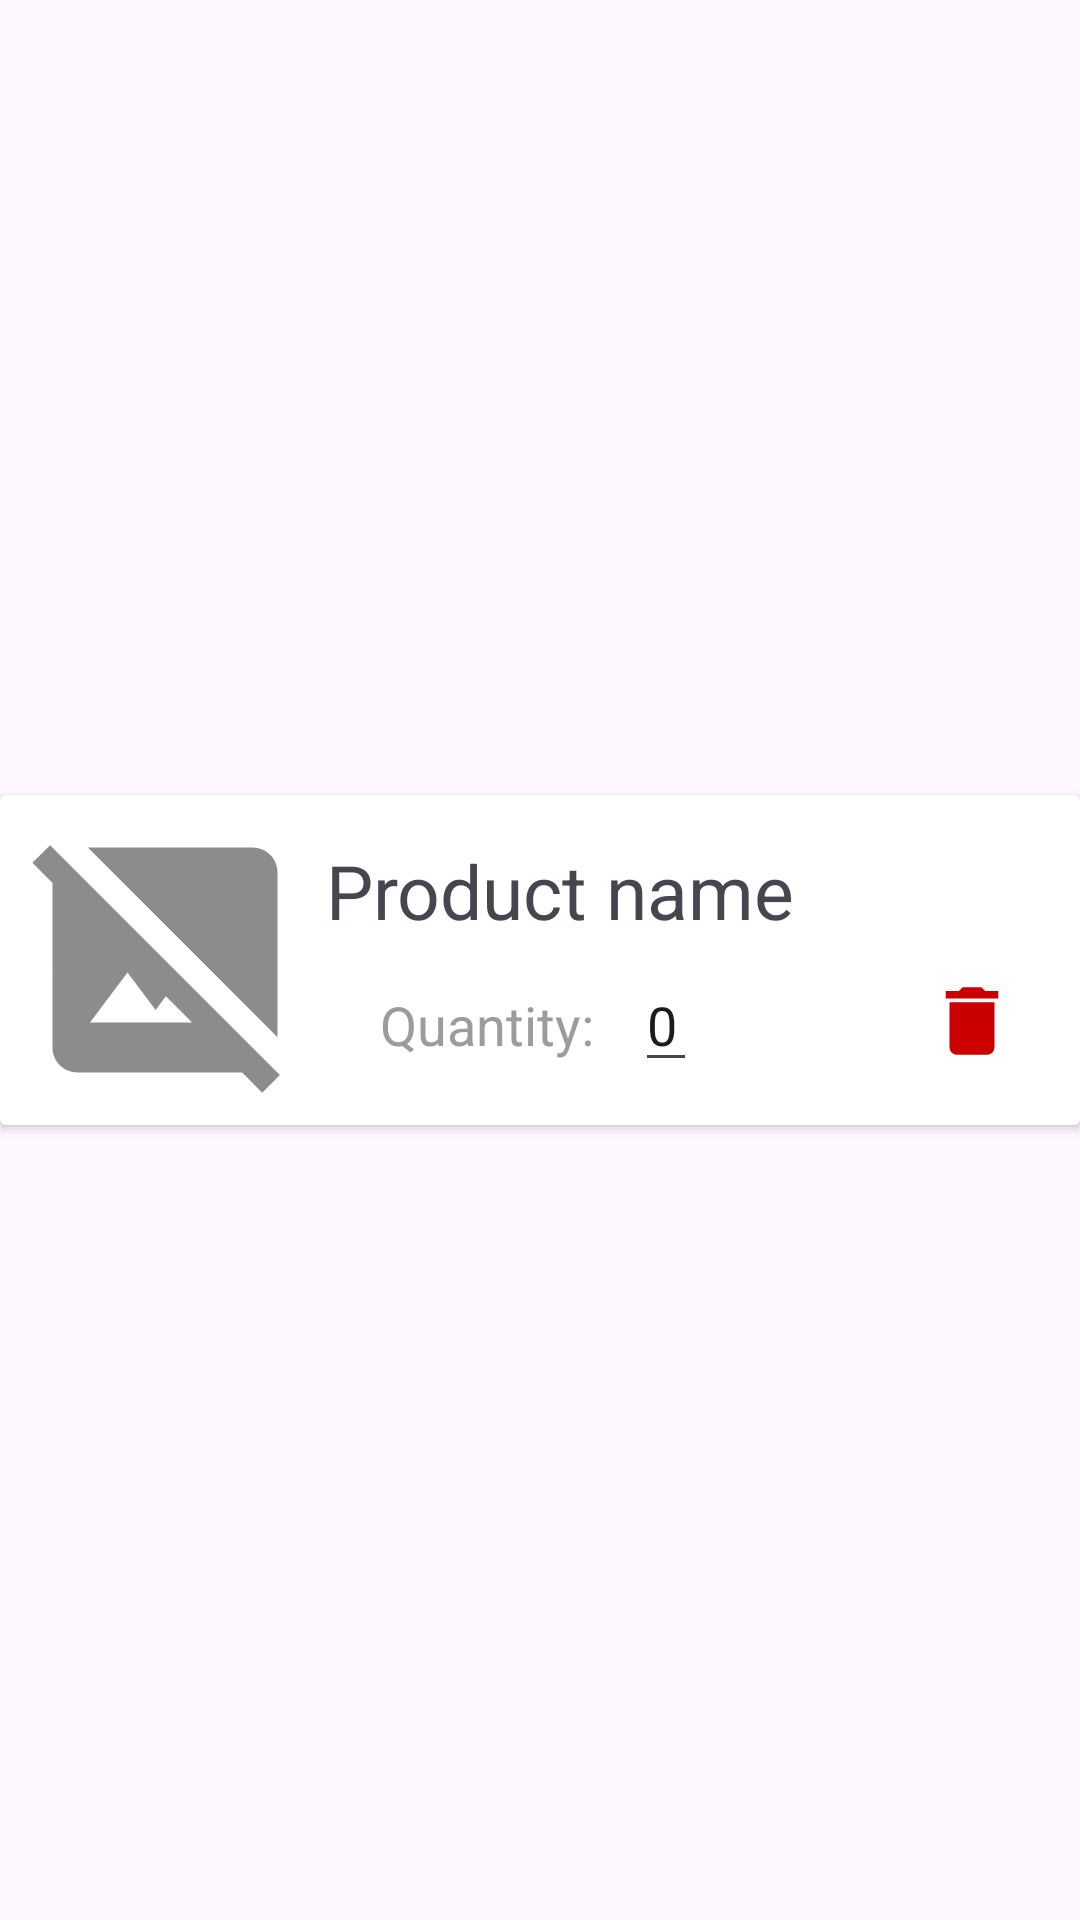

Locate icon controls on the screen. Image size 1080 × 1920, boxes as (x1, y1, x2, y2).
delete: (945, 987, 999, 1055)
